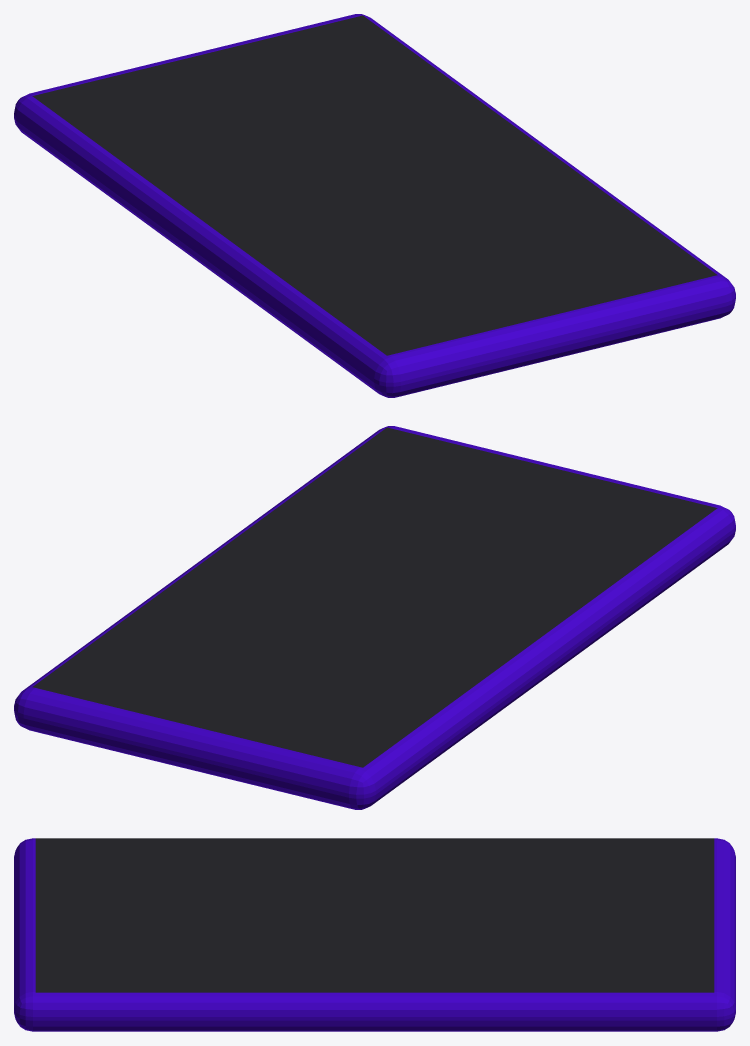
File: Phone_246.glb
3 renders of one model, top to bottom at view 1: azimuth 30°, elevation 25°; view 2: azimuth 150°, elevation 25°; view 3: azimuth 270°, elevation 25°, orthographic. The views are drawn at different scales.
Parts seen in each view (by area): view 1: Phone_Screen, Phone_Body; view 2: Phone_Screen, Phone_Body; view 3: Phone_Screen, Phone_Body.
Part boxes in pixels (x1=…): Phone_Screen: x1=32, y1=15, x2=717, y2=355; Phone_Body: x1=14, y1=14, x2=735, y2=397; Phone_Screen: x1=32, y1=427, x2=717, y2=767; Phone_Body: x1=14, y1=426, x2=735, y2=809; Phone_Screen: x1=35, y1=838, x2=714, y2=992; Phone_Body: x1=14, y1=838, x2=735, y2=1031.
Bounding box in the file's own units: 0.0794 × 0.0085 × 0.1444.
